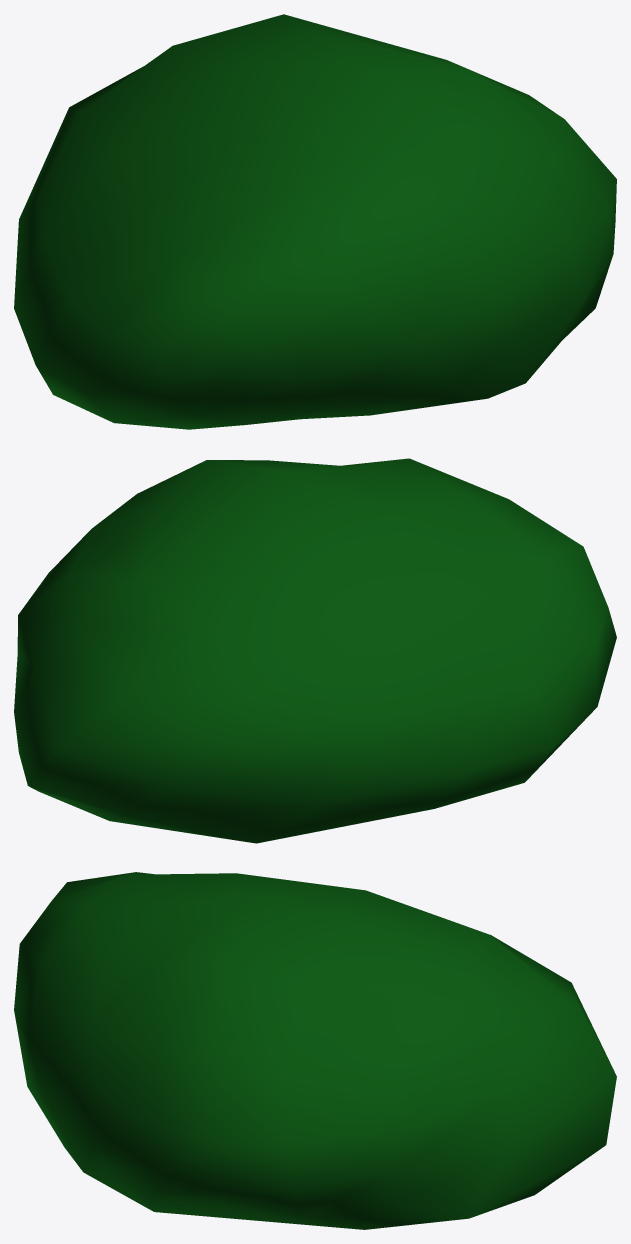
The model's file is Cespuglio 3.DAE.
3 renders of one model, top to bottom at view 1: azimuth 30°, elevation 25°; view 2: azimuth 150°, elevation 25°; view 3: azimuth 270°, elevation 25°, orthographic. The views are drawn at different scales.
Parts seen in each view (by area): view 1: Box012; view 2: Box012; view 3: Box012.
Part boxes in pixels (<box>): Box012: <box>14,14,616,429</box>; Box012: <box>14,458,616,843</box>; Box012: <box>14,872,616,1229</box>.
Bounding box in the file's own units: 57.93 × 29.11 × 59.71.
